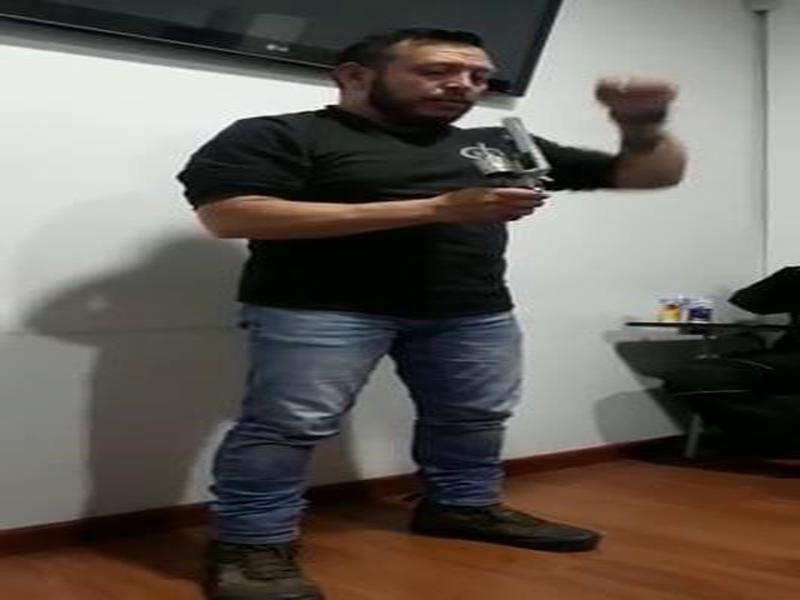Revolver: (419, 106, 571, 239)
